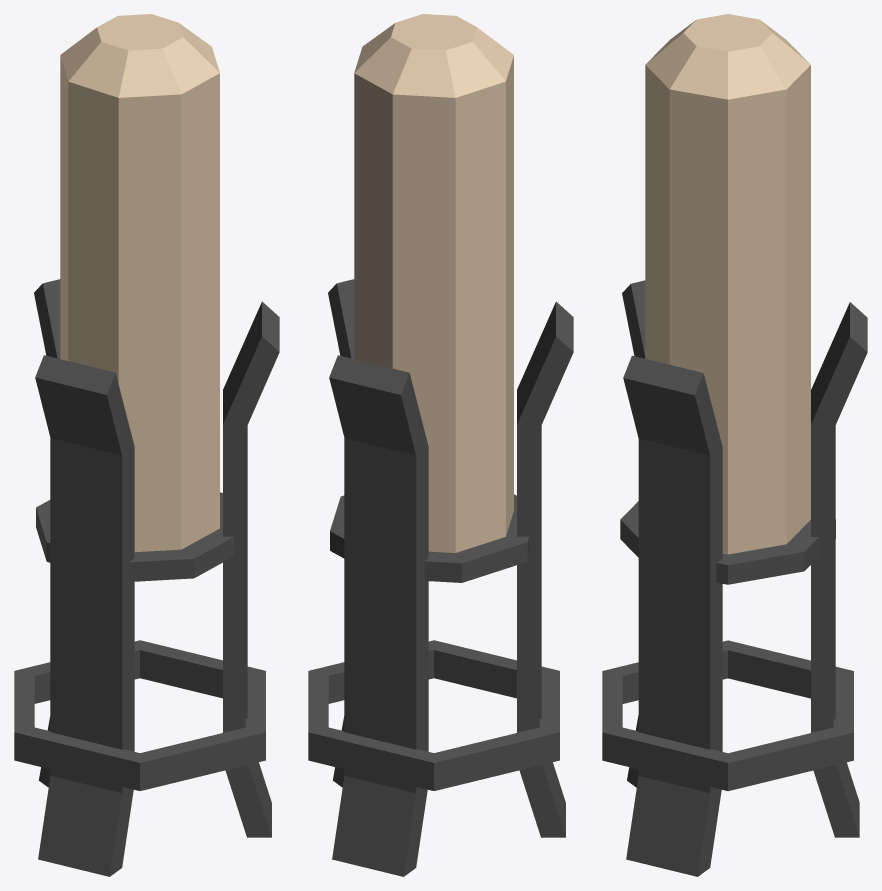
File: Candle.001.fbx
3 views of the same model, side by side, from view 1: azimuth 30°, elevation 25°; view 2: azimuth 150°, elevation 25°; view 3: azimuth 270°, elevation 25° (orthographic).
Visible parts, largest first — view 1: Candle.001; view 2: Candle.001; view 3: Candle.001.
Part boxes in pixels (x1,y1,x2,y2): Candle.001: (14, 14, 279, 876); Candle.001: (308, 14, 573, 876); Candle.001: (602, 14, 867, 876).
Size of the model in its own units: 0.0702 by 0.21 by 0.0641.
